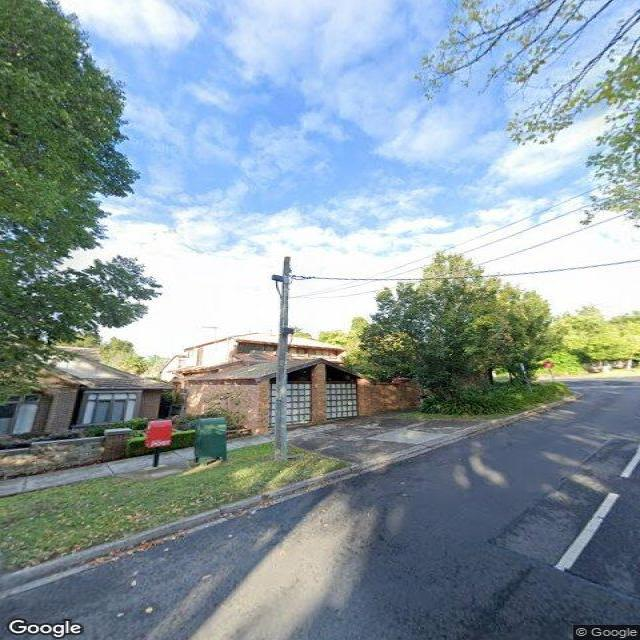timber-pole: (273, 253, 294, 459)
